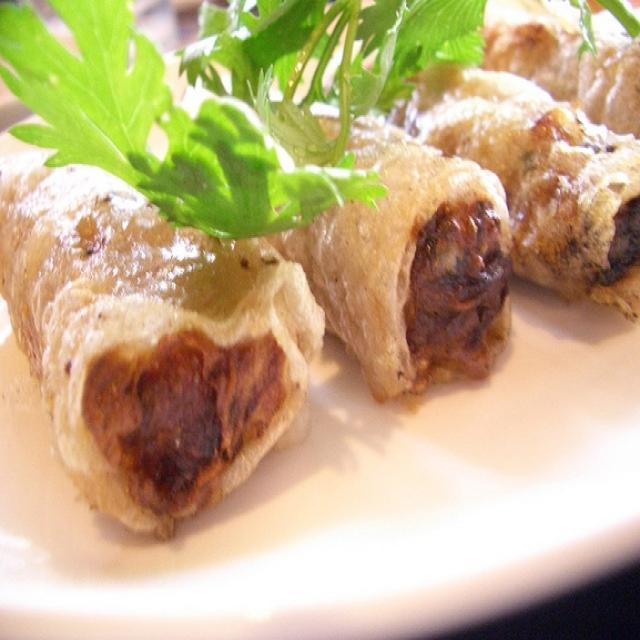炸货点心: (25, 50, 628, 572)
